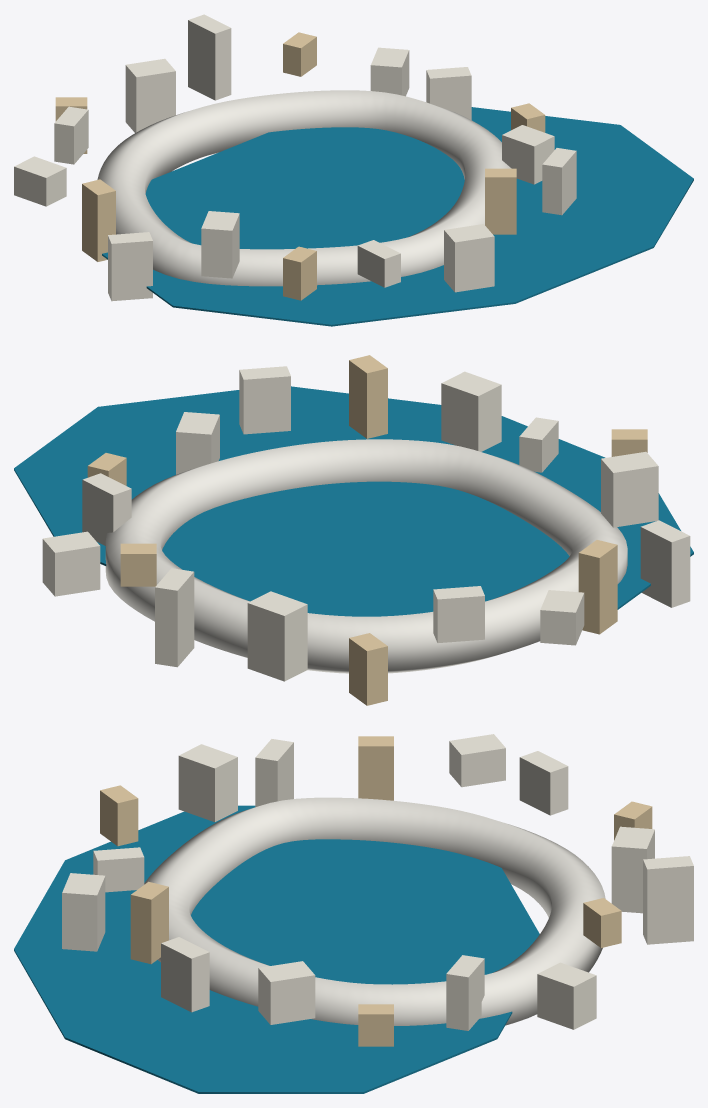
Rendered from monaco-track.glb.
The picture shows the model from 3 angles, top to bottom: view 1: azimuth 30°, elevation 25°; view 2: azimuth 150°, elevation 25°; view 3: azimuth 270°, elevation 25°; orthographic projection. The views are drawn at different scales.
Parts seen in each view (by area): view 1: Project Original Monaco-inspired Harbor Circuit; view 2: Project Original Monaco-inspired Harbor Circuit; view 3: Project Original Monaco-inspired Harbor Circuit.
Part boxes in pixels (x1,y1,x2,y2): Project Original Monaco-inspired Harbor Circuit: (14, 14, 693, 326); Project Original Monaco-inspired Harbor Circuit: (14, 355, 693, 705); Project Original Monaco-inspired Harbor Circuit: (14, 734, 693, 1093).
Size of the model in its own units: 60.25 by 10.15 by 57.26.
